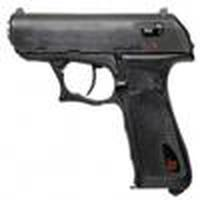gun: (5, 10, 195, 199)
